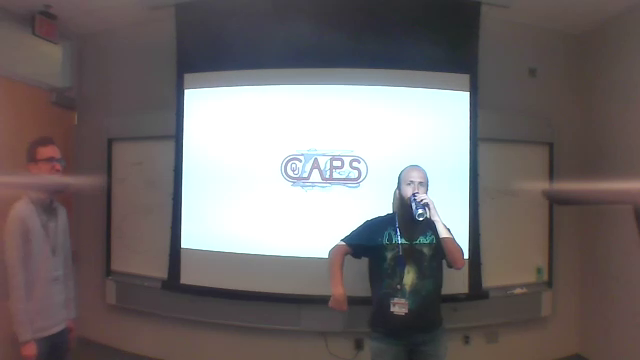down: (328, 289, 349, 320)
